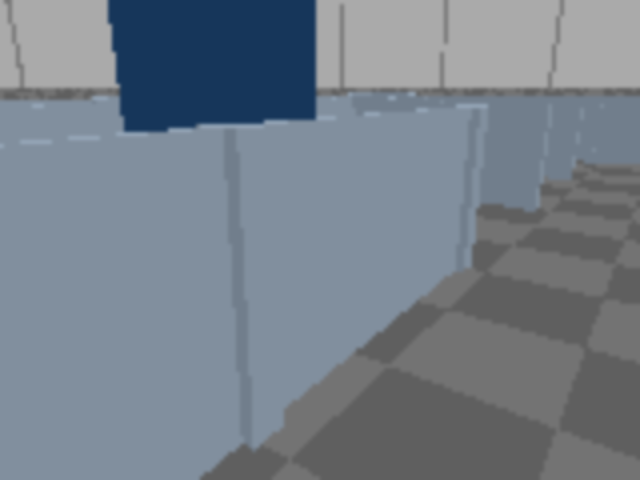person: (0, 0, 299, 308)
